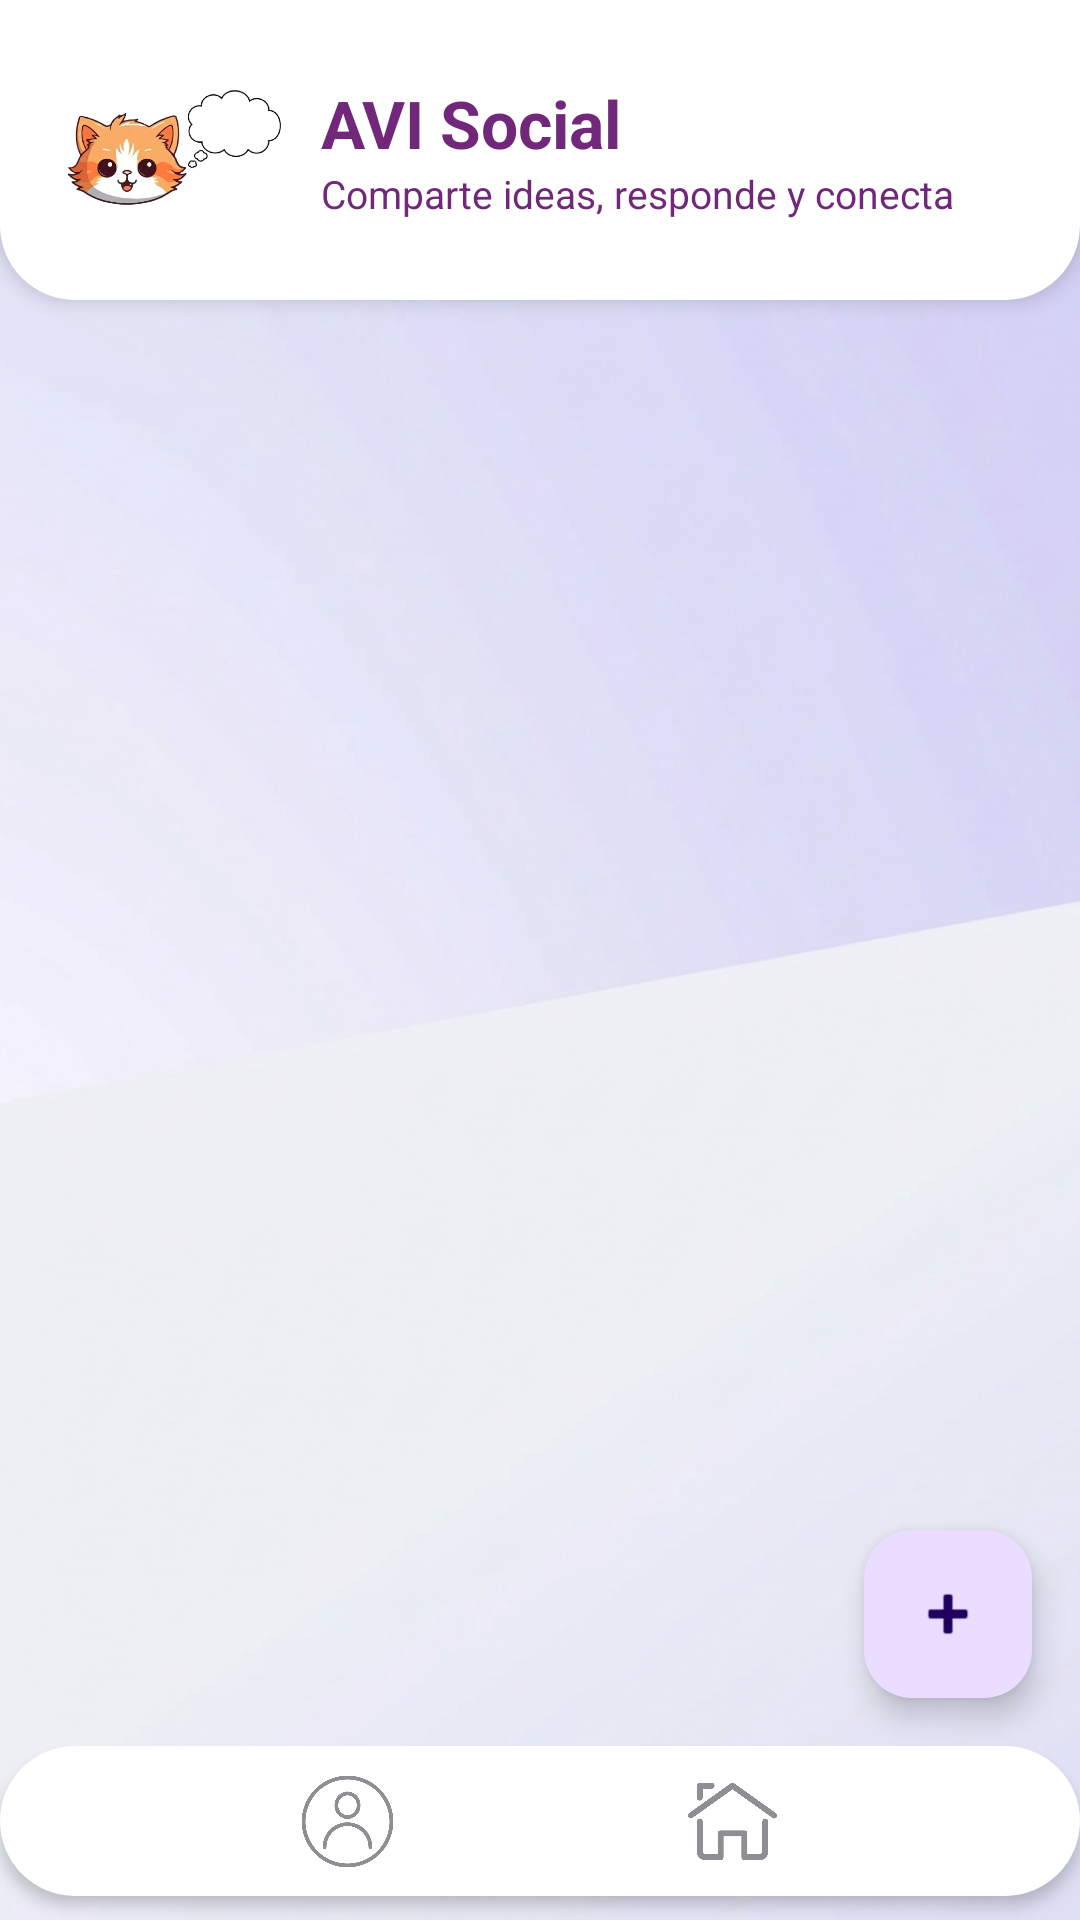

Where icons sit on this 1080 × 1920 app screen, as Rect(x1, y1, x2, y2):
add: Rect(864, 1530, 1032, 1698)
home: Rect(688, 1783, 777, 1860)
user: Rect(302, 1776, 393, 1867)
